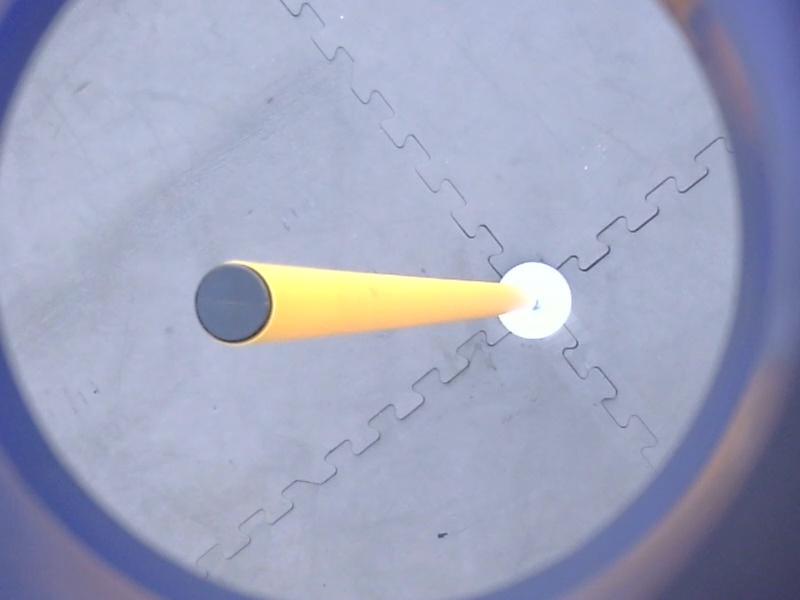tip: (186, 256, 280, 352)
